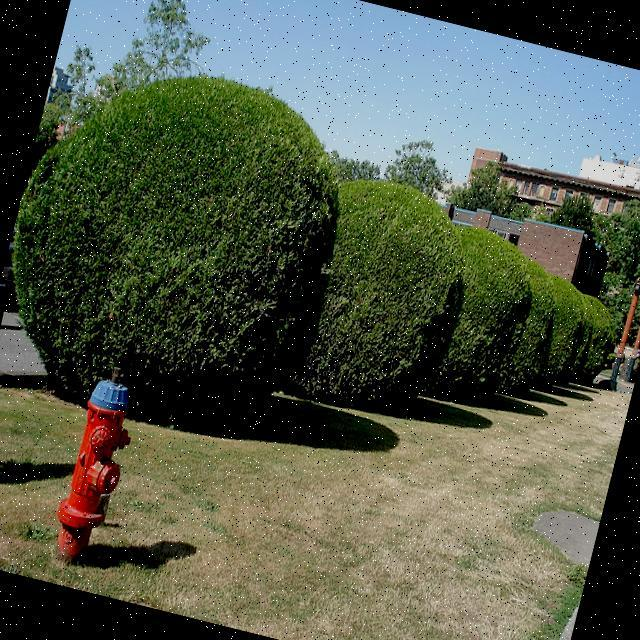fire_hydrant: (44, 358, 148, 567)
